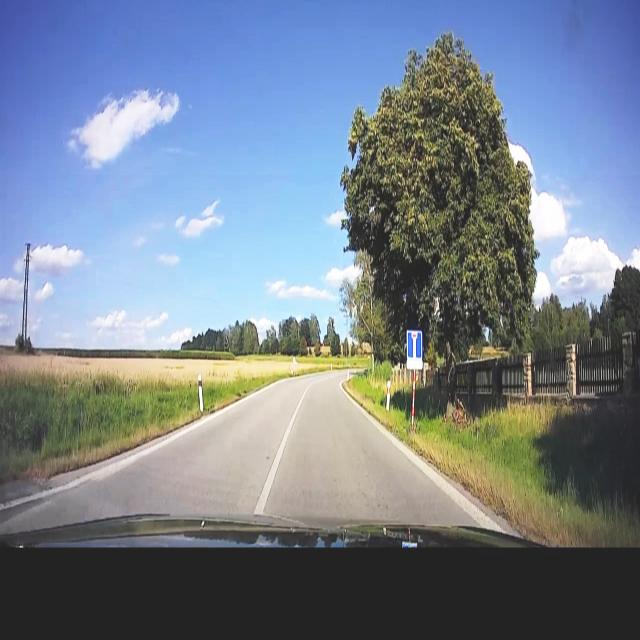Priority road: (405, 327, 423, 360)
